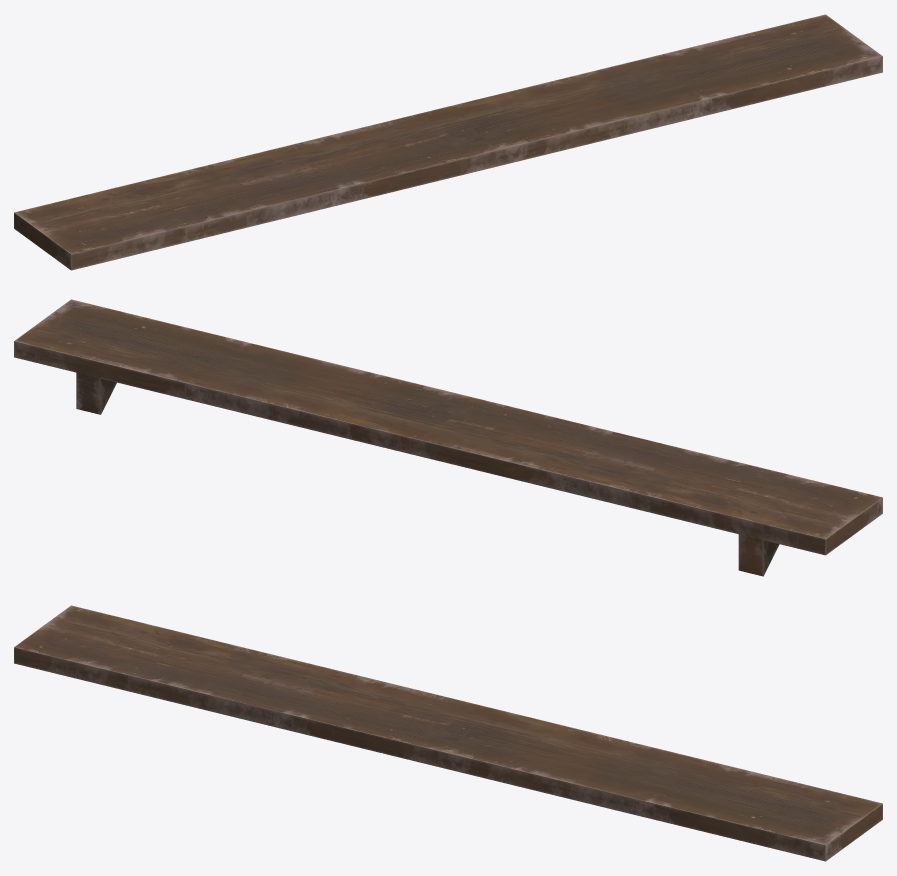
Rendered from shelf.glb.
The picture shows the model from 3 angles, top to bottom: view 1: azimuth 30°, elevation 25°; view 2: azimuth 150°, elevation 25°; view 3: azimuth 330°, elevation 25°; orthographic projection.
Visible parts, largest first — view 1: SM_shelf_003_0; view 2: SM_shelf_003_0; view 3: SM_shelf_003_0.
Part boxes in pixels (<box>): SM_shelf_003_0: <box>14,14,882,270</box>; SM_shelf_003_0: <box>14,299,882,576</box>; SM_shelf_003_0: <box>14,605,882,861</box>.
Size of the model in its own units: 1.71 by 0.1055 by 0.2084.
Materials: 1 (1 with a texture image).
